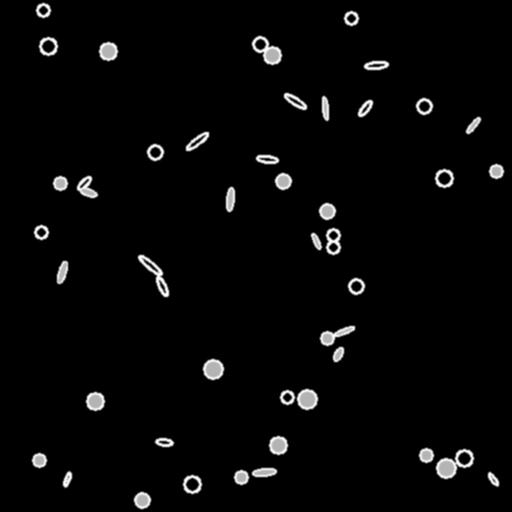pseudomonas: (137, 253, 163, 277), (185, 130, 209, 152), (283, 91, 307, 111), (356, 98, 374, 118), (55, 260, 69, 284), (155, 275, 169, 297), (465, 116, 481, 134), (333, 325, 355, 337), (76, 175, 92, 191), (331, 346, 345, 362), (79, 186, 97, 198), (487, 471, 499, 487), (252, 468, 276, 476), (321, 96, 329, 120), (310, 233, 322, 249), (226, 188, 234, 210), (365, 61, 387, 69), (62, 471, 72, 487), (257, 155, 277, 163), (155, 438, 173, 446)
synechocystis: (204, 360, 222, 378), (298, 390, 316, 408), (437, 459, 455, 477), (270, 437, 286, 453), (436, 170, 452, 186), (100, 43, 116, 59), (264, 47, 280, 63), (184, 476, 200, 492), (87, 393, 103, 409), (40, 38, 56, 54), (456, 450, 472, 466), (276, 174, 290, 188), (135, 493, 149, 507), (349, 279, 363, 293), (417, 99, 431, 113), (253, 37, 267, 51), (148, 145, 162, 159), (320, 204, 334, 218), (490, 165, 502, 177), (37, 4, 49, 16), (420, 449, 432, 461), (33, 454, 45, 466), (281, 391, 293, 403), (54, 177, 66, 189), (345, 12, 357, 24), (327, 241, 339, 253), (35, 226, 47, 238), (235, 471, 247, 483), (327, 229, 339, 241), (321, 332, 333, 344)
